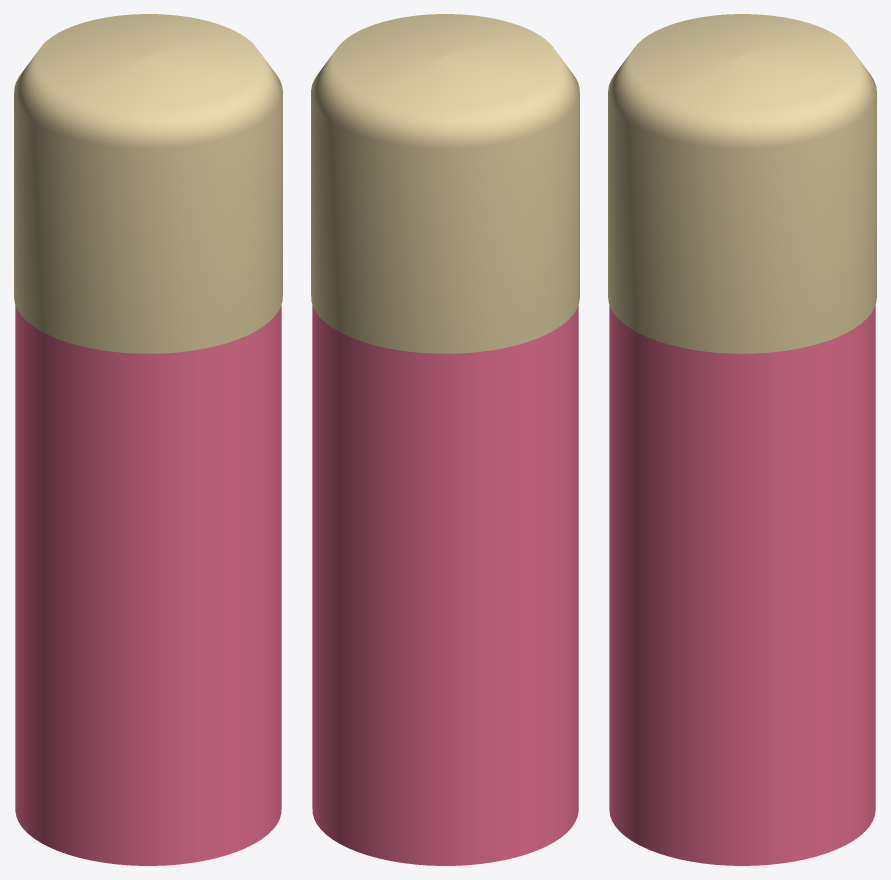
The model's file is pink-tube.glb.
3 renders of one model, left to right at view 1: azimuth 30°, elevation 25°; view 2: azimuth 150°, elevation 25°; view 3: azimuth 270°, elevation 25°, orthographic.
Visible parts, largest first — view 1: body, cap; view 2: body, cap; view 3: body, cap.
Boxes of the visible parts, <box> form: body: <box>15,305,281,865</box>; cap: <box>14,14,282,353</box>; body: <box>312,305,578,865</box>; cap: <box>311,14,579,353</box>; body: <box>609,305,875,865</box>; cap: <box>608,14,876,353</box>.
Bounding box in the file's own units: 0.3232 × 1 × 0.3232.
